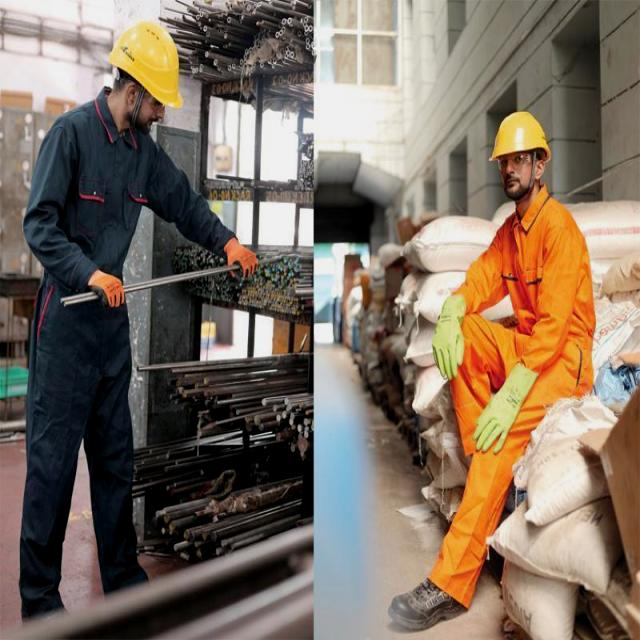face_nomask: (498, 152, 539, 202), (134, 79, 168, 136)
glasses: (496, 147, 532, 173), (144, 85, 169, 113)
hand_glove: (474, 356, 544, 454), (432, 293, 474, 381), (222, 236, 262, 285), (86, 269, 126, 308)
head_helmet: (108, 22, 187, 111), (490, 110, 553, 161)
person: (27, 6, 184, 602), (395, 109, 571, 631)
shoes: (389, 567, 472, 634)
